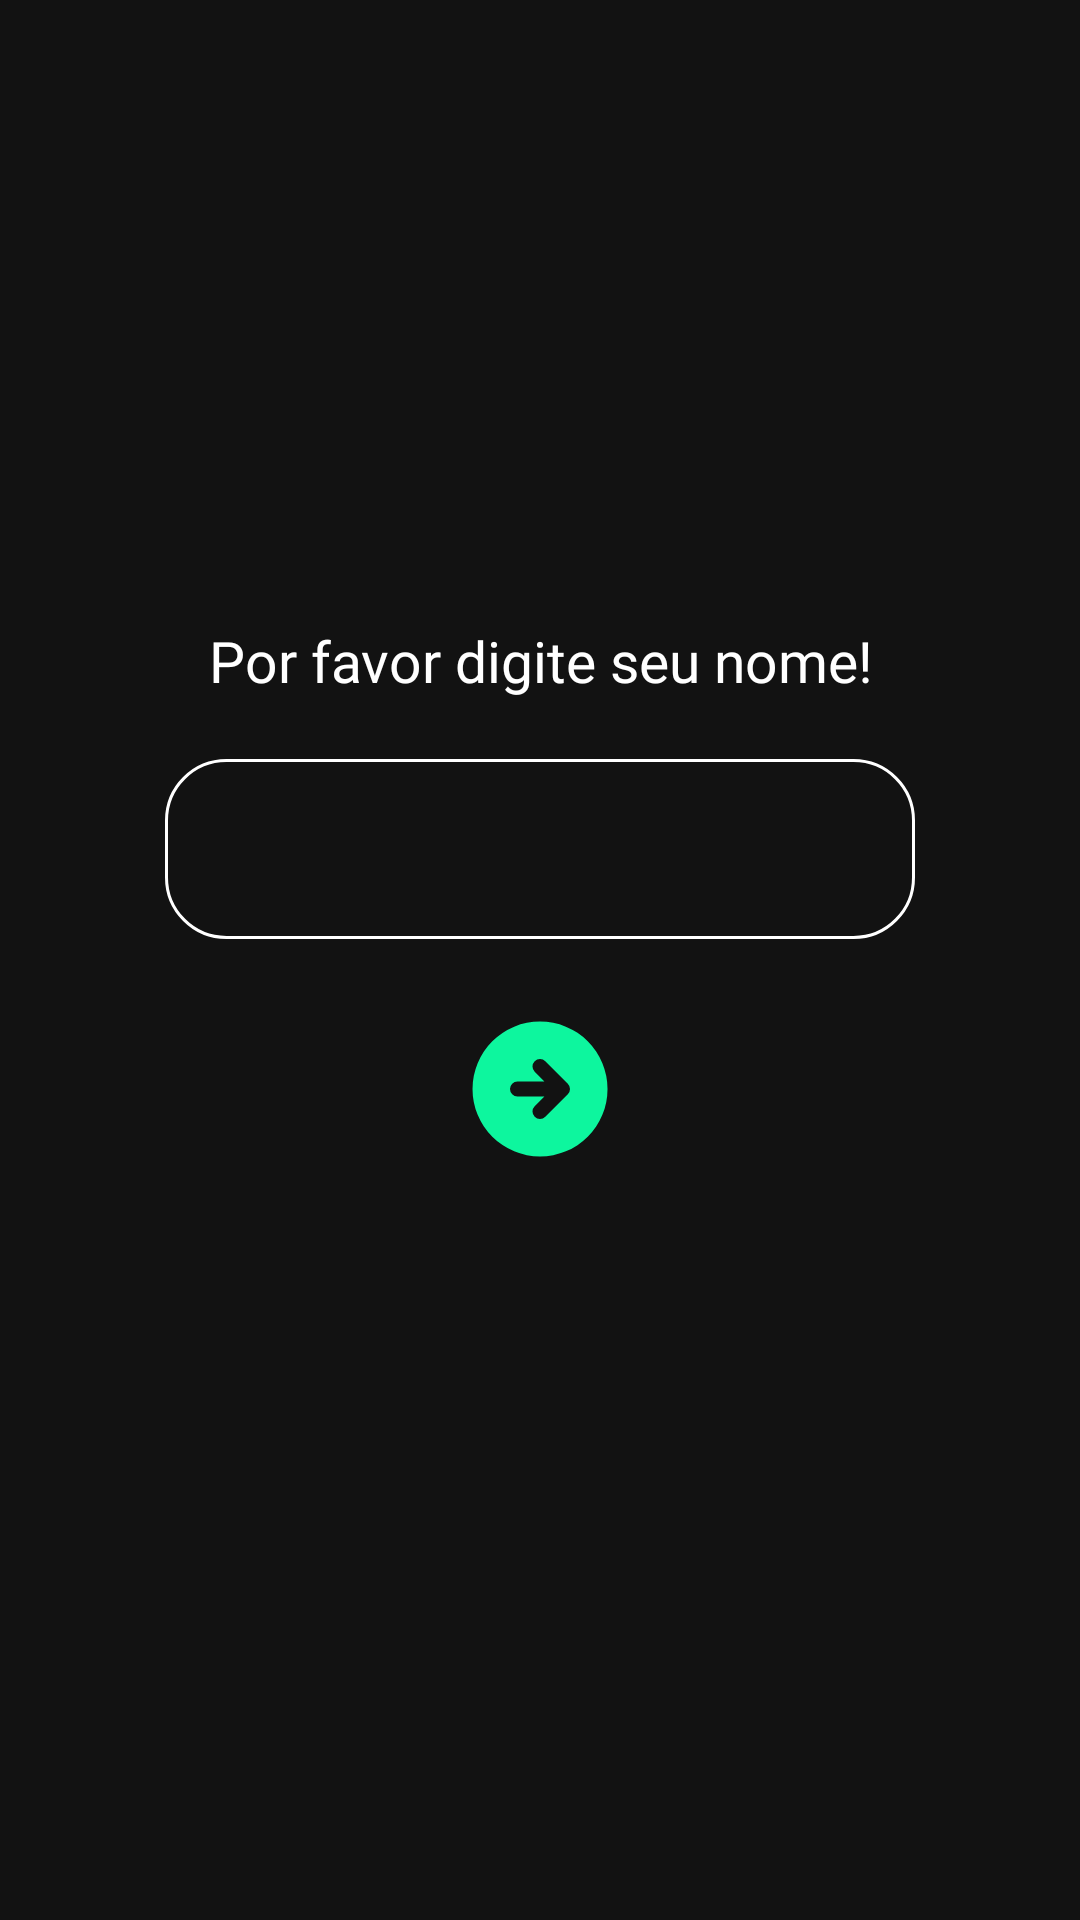

Icons on this 1080×1920 Android screen, each with its box as (x1, y1, x2, y2):
arrow: (472, 1021, 608, 1157)
